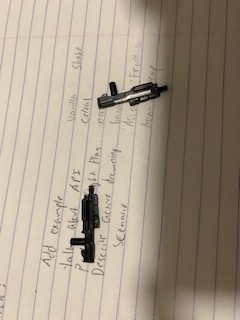rifle: (70, 184, 102, 264), (96, 81, 168, 110)
